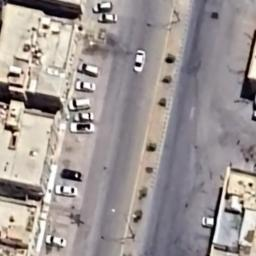sedan: (130, 44, 151, 78), (52, 183, 82, 200), (68, 110, 104, 124), (56, 168, 87, 184), (66, 96, 96, 112), (44, 232, 70, 250), (68, 122, 98, 136), (76, 60, 102, 76), (70, 78, 98, 92), (91, 2, 117, 14), (198, 214, 218, 228), (99, 13, 120, 24)
